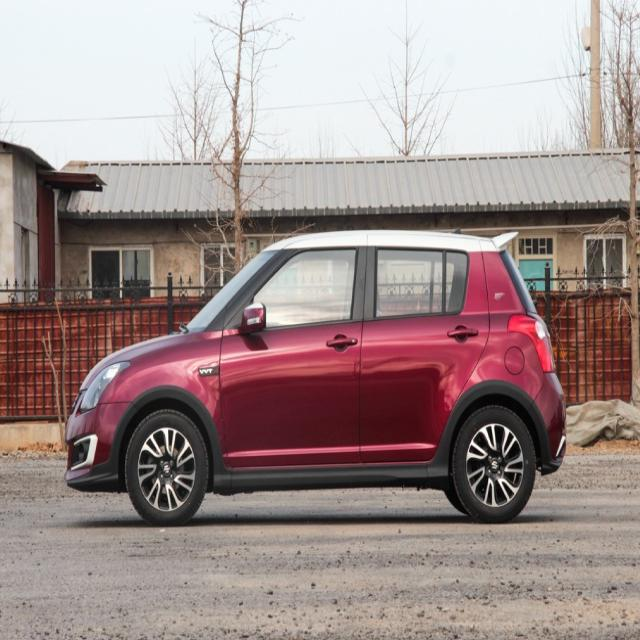back_glass: (500, 248, 538, 314)
back_left_side_light: (507, 312, 556, 373)
door: (367, 246, 491, 464)
front_bumper: (66, 400, 138, 490)
front_glass: (185, 248, 277, 334)
front_left_side_door: (220, 231, 369, 471)
front_left_side_light: (78, 356, 133, 415)
front_left_side_mirror: (241, 300, 269, 336)
rear_bumper: (525, 370, 568, 471)
wheel: (452, 404, 536, 520), (124, 409, 208, 525)
